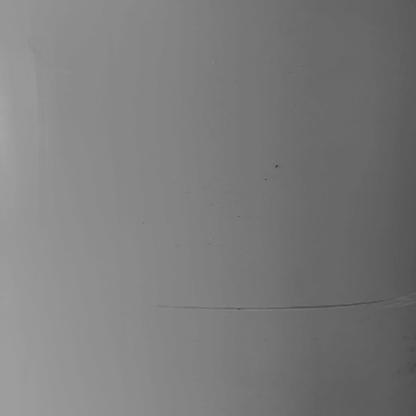sunshang: (149, 292, 416, 315)
